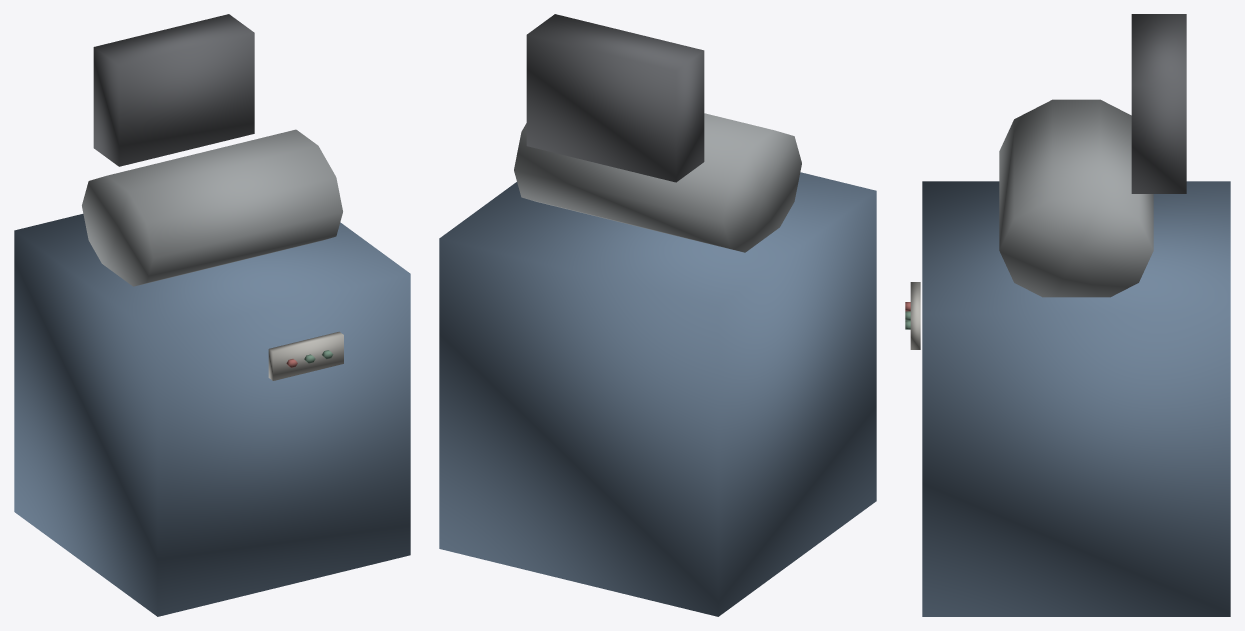
Rendered from tire_changer__squat.glb.
3 views of the same model, side by side, from view 1: azimuth 30°, elevation 25°; view 2: azimuth 150°, elevation 25°; view 3: azimuth 270°, elevation 25° (orthographic). The views are drawn at different scales.
Parts seen in each view (by area): view 1: world; view 2: world; view 3: world.
Boxes of the visible parts, <box> form: world: <box>14,14,410,616</box>; world: <box>439,14,876,616</box>; world: <box>905,14,1230,616</box>.
Bounding box in the file's own units: 0.616 × 1.08 × 0.6383.
